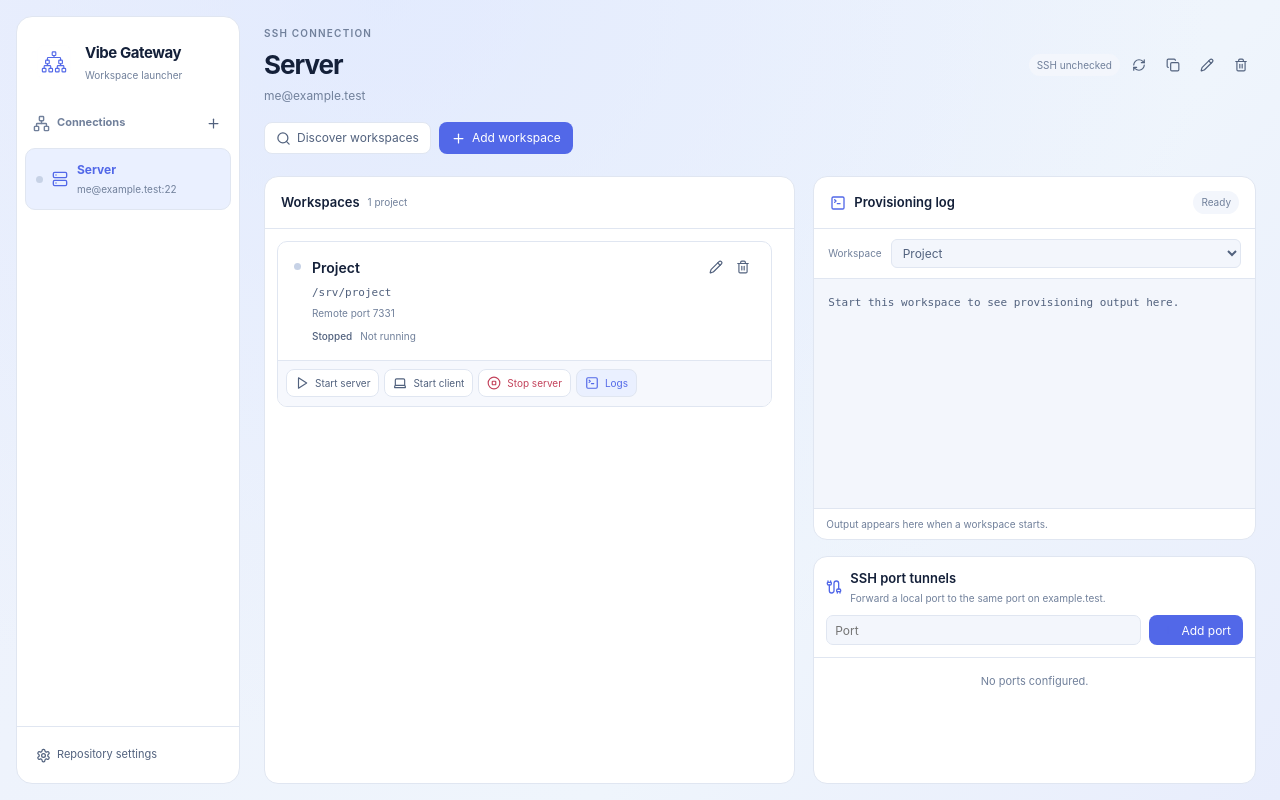
Test: Gateway error presentation › surfaces provisioning, diagnostics, and unexpected failures without browser dialogs
Expected: the heading "Project" is shown, [312,259,360,276]
Click the button "Start server".
click(333, 384)  # box [286,370,379,398]
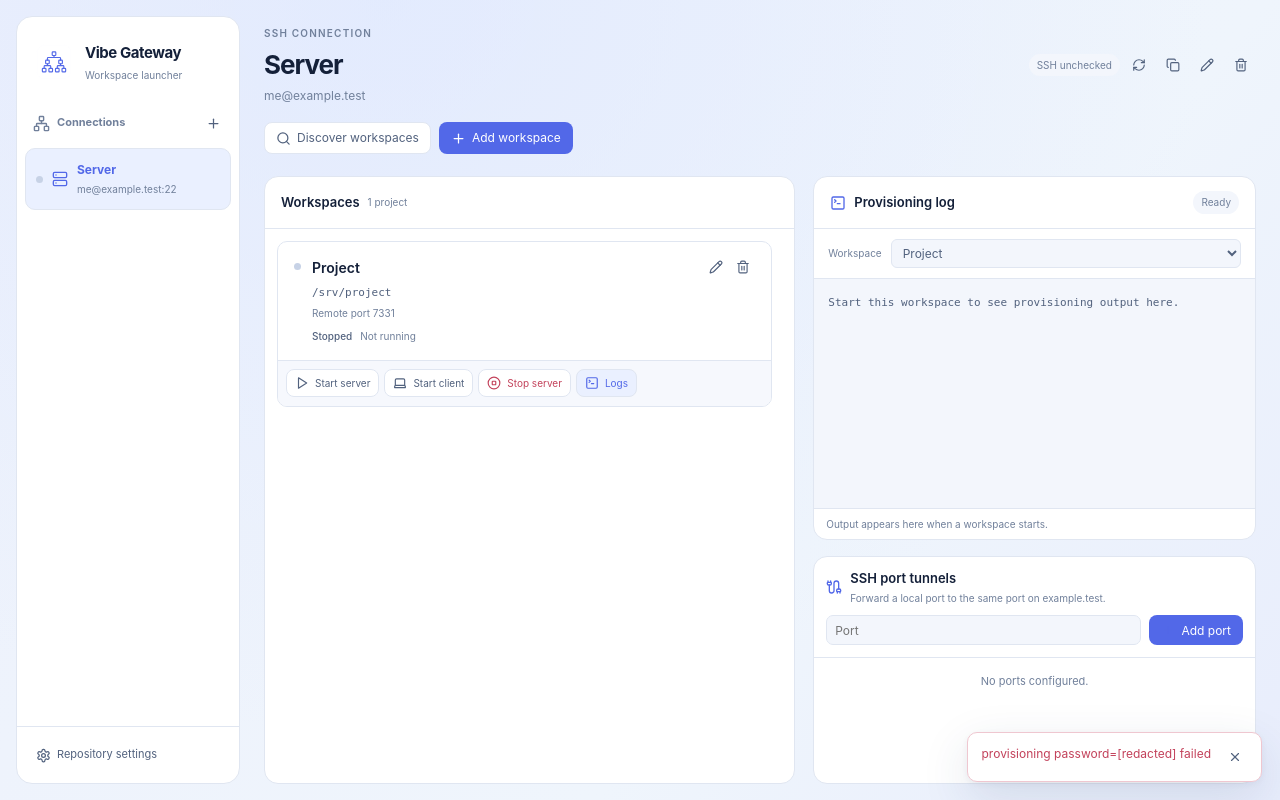
Now the message "provisioning password=[redacted] failed" is shown, box [966,732,1262,782]
Click the button named "Dismiss error".
click(1235, 757)  # box [1223,745,1247,769]
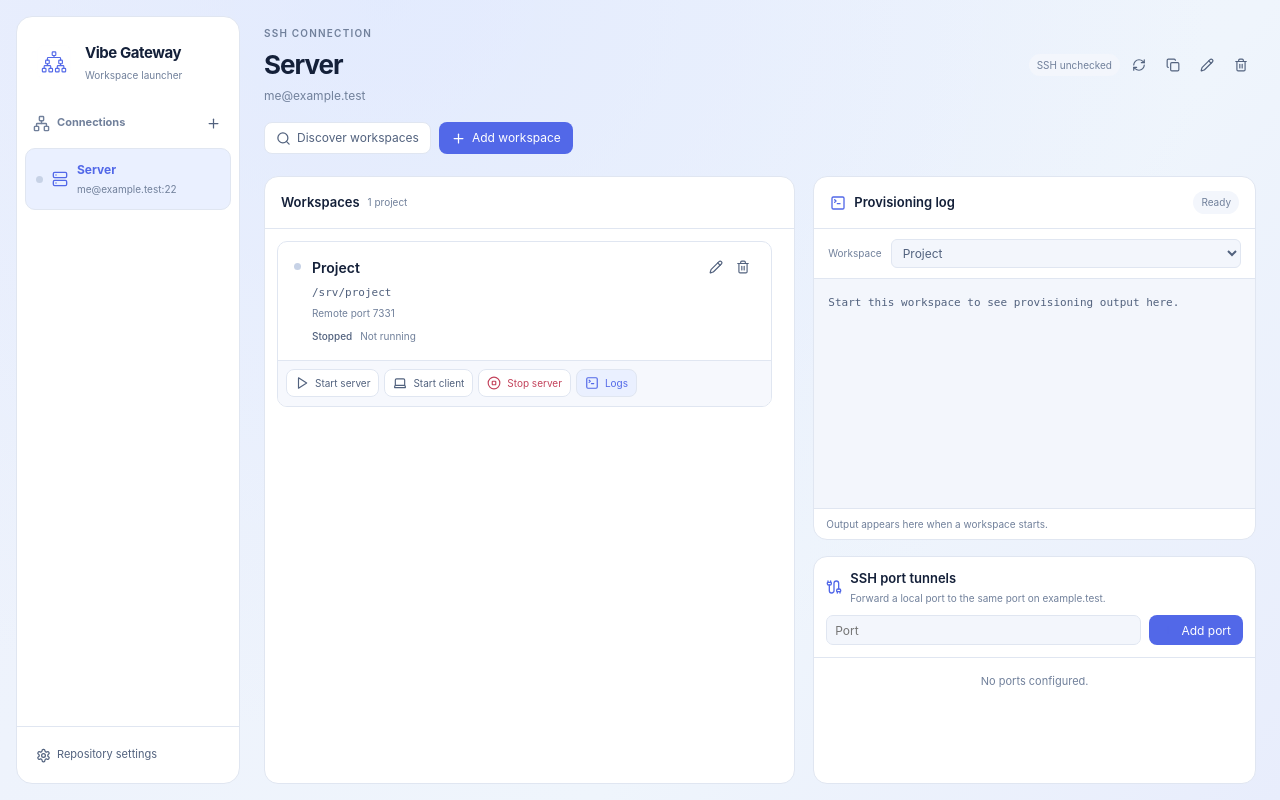
Click the button named "Copy connection diagnostics".
click(1173, 65)  # box [1158,50,1188,80]
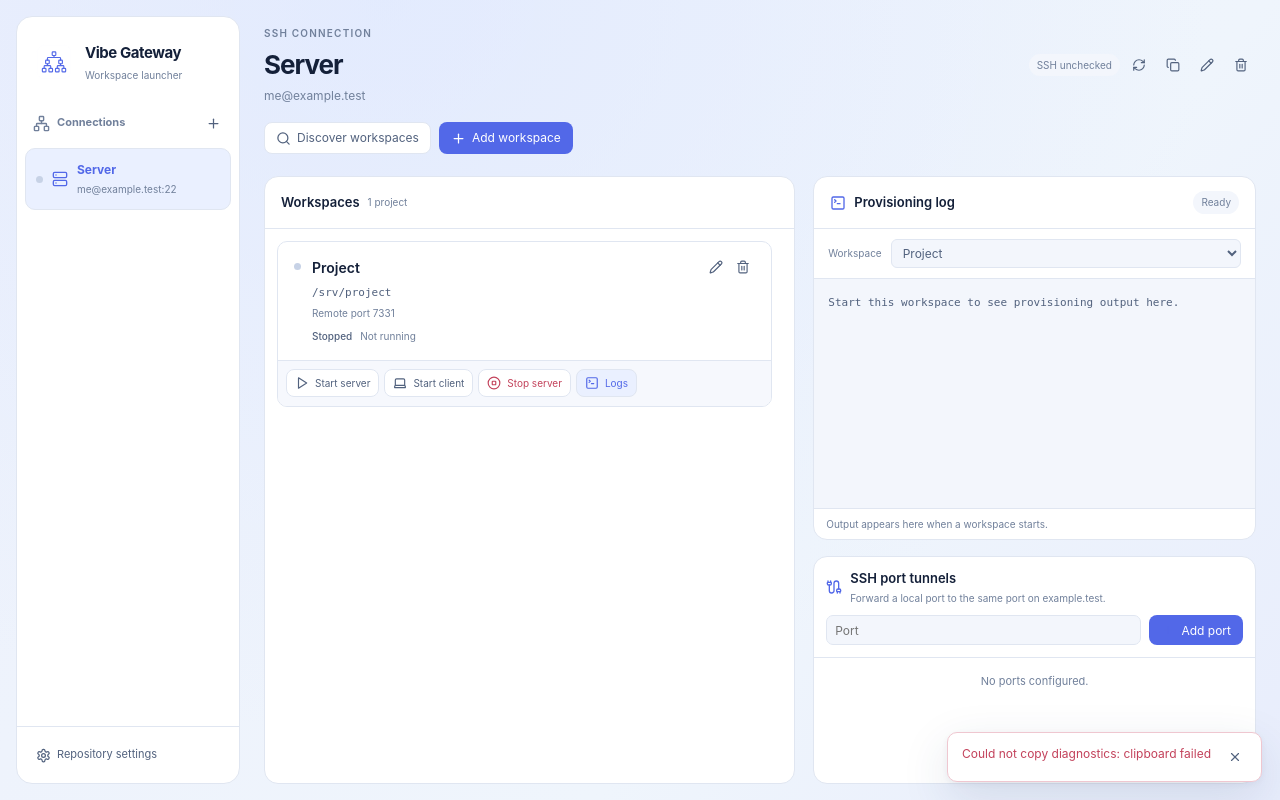
Now the message "Could not copy diagnostics: clipboard failed" is shown, box [947,732,1262,782]
Click the button named "Dismiss error".
click(1235, 757)  # box [1223,745,1247,769]
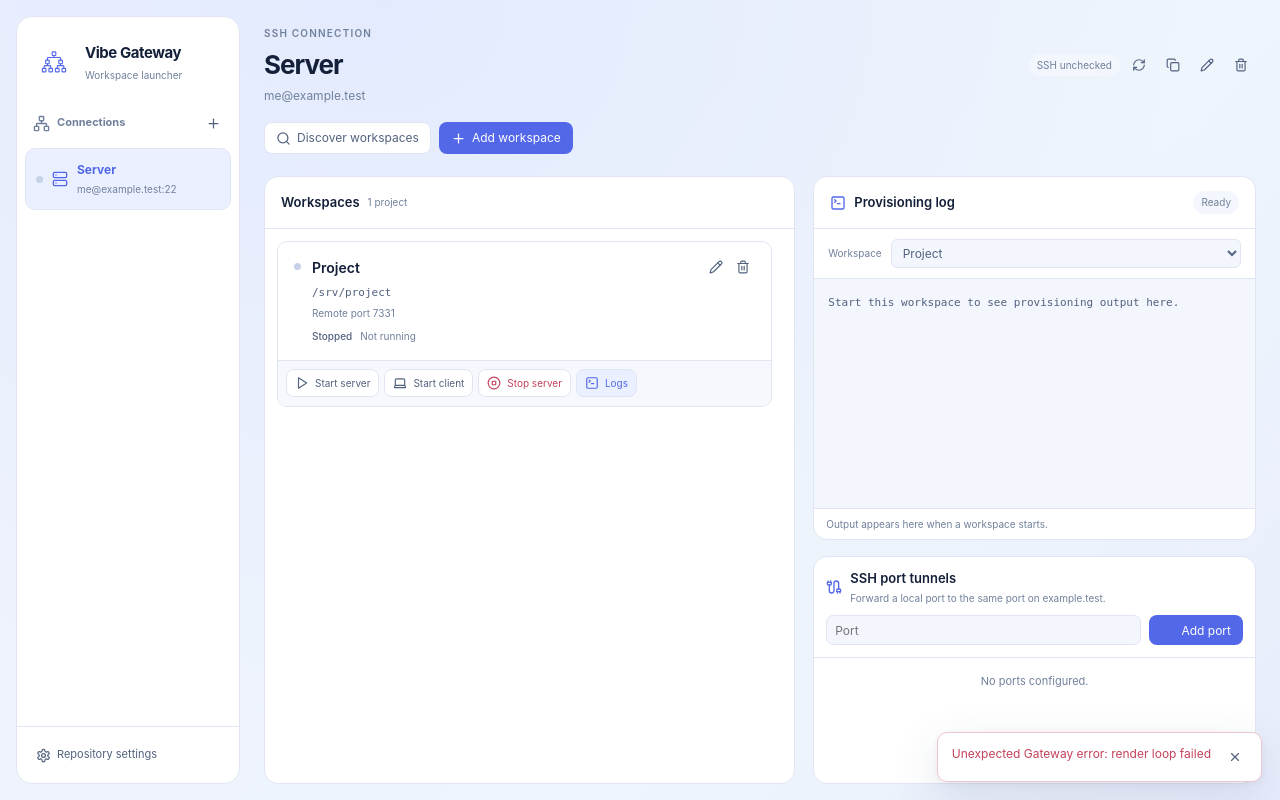
Now the message "Unexpected Gateway error: render loop failed" is shown, box [937,732,1262,782]
